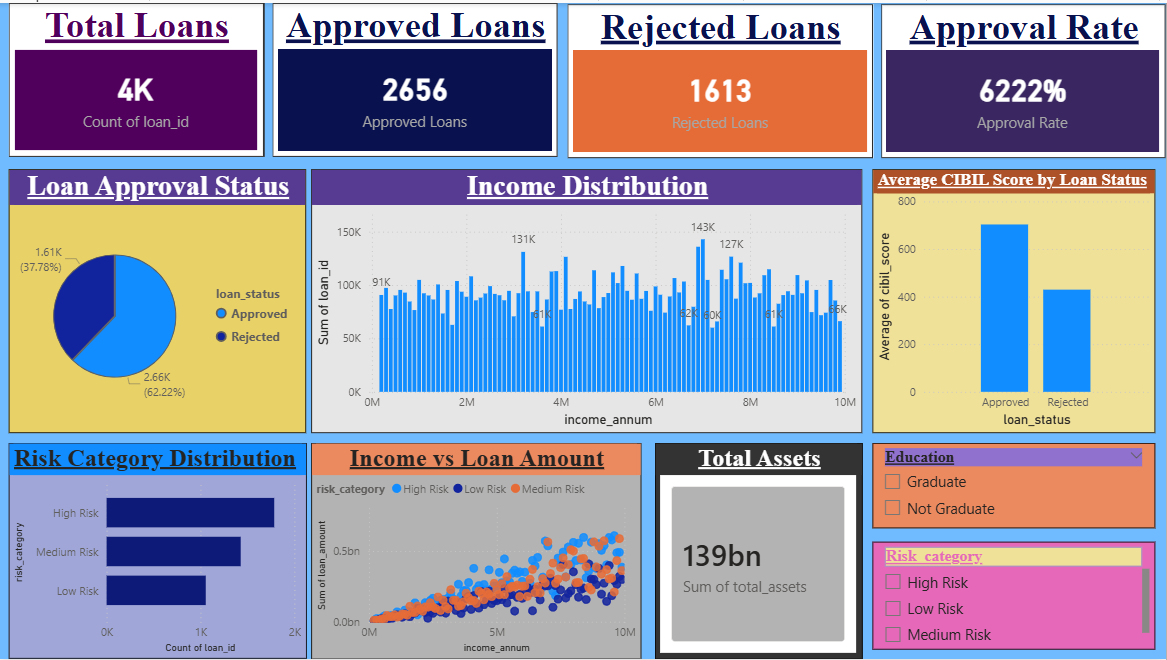

This screenshot's page, from the dashboard's own definition file:
{"tool":"powerbi","page":{"name":"Banking Loan Analytics Dashboard","canvas":[1280,720],"ordinal":0},"visuals":[{"type":"advanceCardE03760C5AB684758B56AA29F9E6C257B","title":"Total Loans","fields":{"mainMeasure":["CountNonNull(cleaned_loan_data.loan_id)"]},"box":[9.6,0,279.9,168.8],"z":0},{"type":"advanceCardE03760C5AB684758B56AA29F9E6C257B","title":"Approved Loans","fields":{"mainMeasure":["cleaned_loan_data.Approved Loans"]},"box":[299.1,0,312.9,168.8],"z":1000},{"type":"advanceCardE03760C5AB684758B56AA29F9E6C257B","title":"Rejected Loans","fields":{"mainMeasure":["cleaned_loan_data.Rejected Loans"]},"box":[623,1.4,334.8,168.8],"z":2000},{"type":"advanceCardE03760C5AB684758B56AA29F9E6C257B","title":"Approval Rate","fields":{"mainMeasure":["cleaned_loan_data.Approval Rate"]},"box":[968,1,312,169],"z":3000},{"type":"pieChart","title":"Loan Approval Status","fields":{"Category":["cleaned_loan_data.loan_status"],"Y":["CountNonNull(cleaned_loan_data.loan_id)"]},"box":[9.6,182.5,326.6,289.5],"z":4000},{"type":"barChart","title":"Risk Category Distribution","fields":{"Category":["cleaned_loan_data.risk_category"],"Y":["CountNonNull(cleaned_loan_data.loan_id)"]},"box":[10,483,327,237],"z":5000},{"type":"columnChart","title":"Income Distribution","fields":{"Category":["cleaned_loan_data.income_annum"],"Y":["Sum(cleaned_loan_data.loan_id)"]},"box":[341.7,182.5,605.1,289.5],"z":6000},{"type":"clusteredColumnChart","title":"Average CIBIL Score by Loan Status","fields":{"Category":["cleaned_loan_data.loan_status"],"Y":["Avg(cleaned_loan_data.cibil_score)"]},"box":[957.8,182.5,310.1,289.5],"z":7000},{"type":"scatterChart","title":"Income vs Loan Amount","fields":{"X":["cleaned_loan_data.income_annum"],"Y":["Sum(cleaned_loan_data.loan_amount)"],"Series":["cleaned_loan_data.risk_category"]},"box":[341.7,483,362.3,237.4],"z":8000},{"type":"cardVisual","title":"Total Assets","fields":{"Data":["Sum(cleaned_loan_data.total_assets)"]},"box":[719,483,227.8,237.4],"z":9000},{"type":"slicer","fields":{"Values":["cleaned_loan_data.education"]},"box":[957.8,483,310.1,93.3],"z":10000},{"type":"slicer","fields":{"Values":["cleaned_loan_data.risk_category"]},"box":[957.8,591.4,310.1,118],"z":10001}]}

Visuals, with their boxes in screenshot pixels (x1, y1, x2, y2), scaled from the page's 1280x720 canvas onto the 1167x660 screenshot:
"Total Loans" advanceCardE03760C5AB684758B56AA29F9E6C257B: box(9, 0, 264, 155)
"Approved Loans" advanceCardE03760C5AB684758B56AA29F9E6C257B: box(273, 0, 558, 155)
"Rejected Loans" advanceCardE03760C5AB684758B56AA29F9E6C257B: box(568, 1, 873, 156)
"Approval Rate" advanceCardE03760C5AB684758B56AA29F9E6C257B: box(883, 1, 1166, 156)
"Loan Approval Status" pieChart: box(9, 167, 307, 433)
"Risk Category Distribution" barChart: box(9, 443, 307, 659)
"Income Distribution" columnChart: box(312, 167, 863, 433)
"Average CIBIL Score by Loan Status" clusteredColumnChart: box(873, 167, 1156, 433)
"Income vs Loan Amount" scatterChart: box(312, 443, 642, 659)
"Total Assets" cardVisual: box(656, 443, 863, 659)
slicer - cleaned_loan_data.education: box(873, 443, 1156, 528)
slicer - cleaned_loan_data.risk_category: box(873, 542, 1156, 650)
